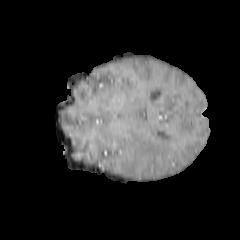glioma: (108, 130, 173, 170)
